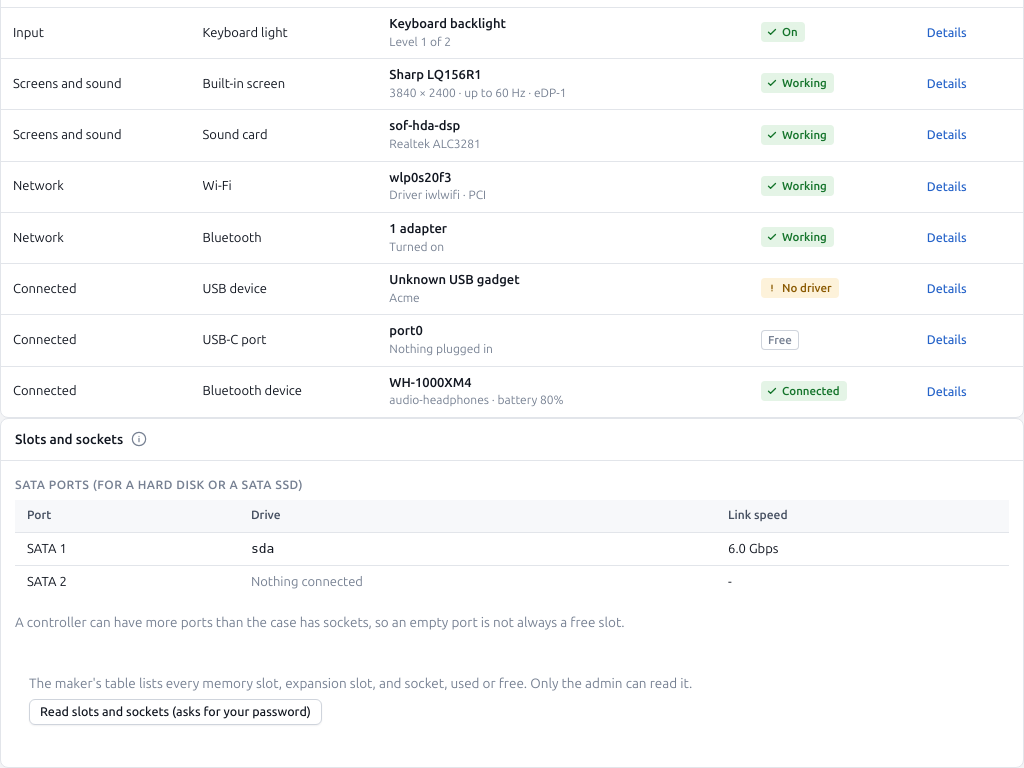
All Parts › shows the parts, the SATA ports, and the slots and sockets after one password
(page scrolled)
Expected: the text "Keyboard backlight" is shown, [389,16,506,31]
Expected: the text "Level 1 of 2" is shown, [389,35,451,49]
Click the button "Read slots and sockets (asks for your password)" at (175,712), box [29,699,322,725]
(page scrolled)
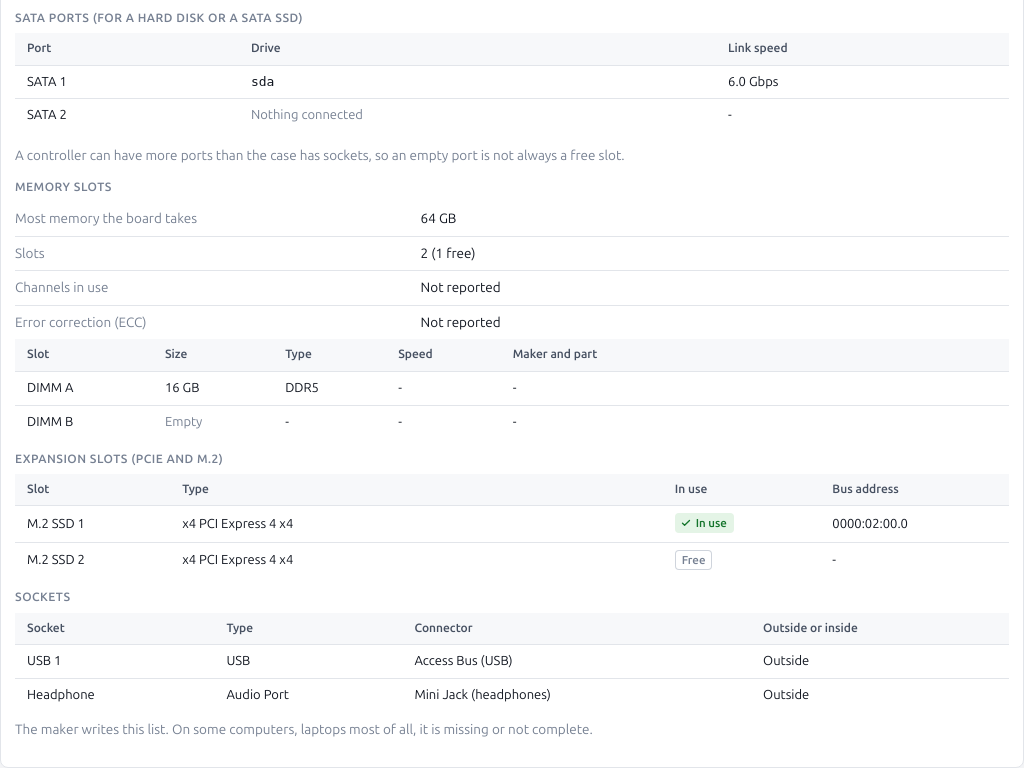
Expected: the text "M.2 SSD 2" is shown, [15,543,170,577]
Expected: the text "Headphone" is shown, [15,678,214,712]
Expected: the text "DIMM B" is shown, [15,405,153,438]
